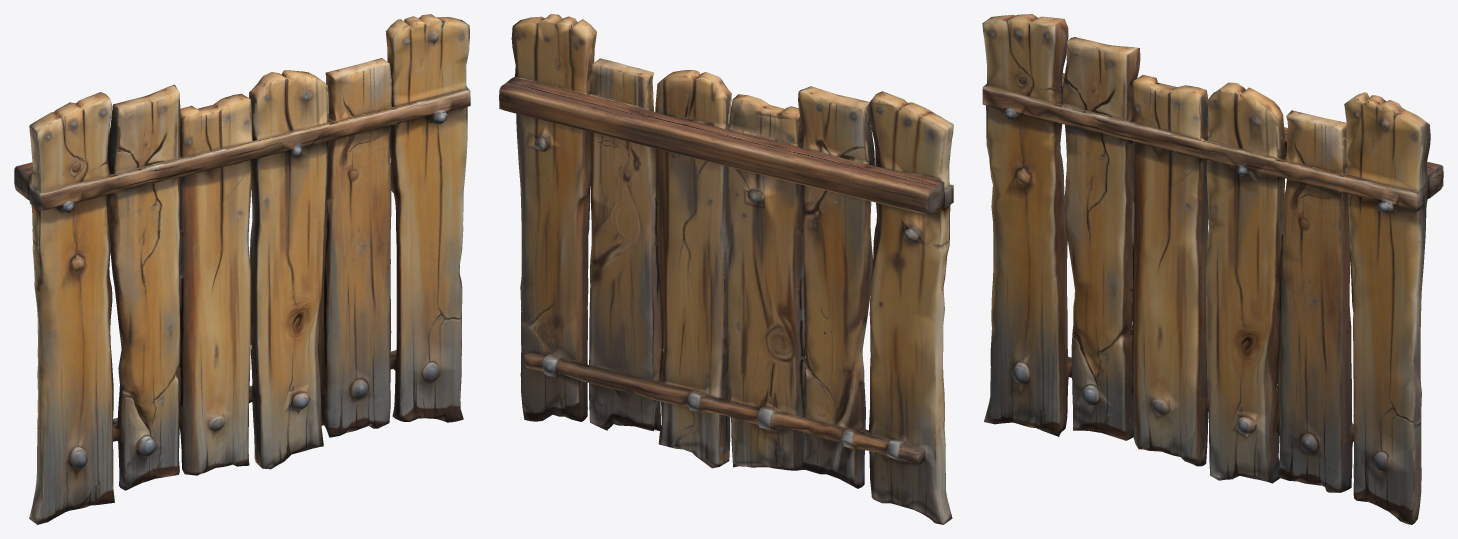
Rendered from fence.glb.
The picture shows the model from 3 angles, left to right: view 1: azimuth 30°, elevation 25°; view 2: azimuth 150°, elevation 25°; view 3: azimuth 330°, elevation 25°; orthographic projection.
Bounding box in the file's own units: 2 × 1.81 × 0.234.
Materials: 1 (1 with a texture image).
